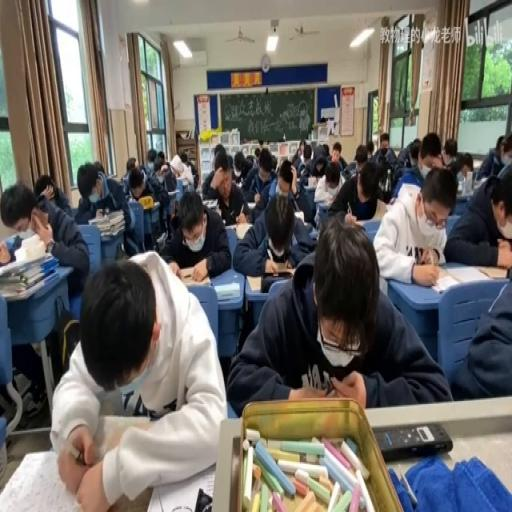calculator: (0, 449, 90, 512), (148, 463, 215, 512), (444, 263, 508, 286), (178, 263, 211, 286), (314, 200, 332, 228), (214, 282, 240, 300), (454, 173, 474, 195), (234, 222, 252, 240), (244, 274, 262, 292), (472, 176, 486, 190), (352, 218, 370, 228), (179, 175, 192, 188), (154, 232, 166, 246), (202, 196, 218, 206), (294, 208, 305, 222), (305, 176, 317, 188), (245, 199, 255, 209), (149, 199, 159, 209), (166, 189, 178, 196)
paper: (52, 250, 227, 509), (230, 216, 447, 415), (4, 178, 90, 300), (442, 162, 512, 268), (158, 186, 227, 279), (76, 158, 137, 257), (327, 155, 388, 220), (276, 155, 318, 225), (387, 141, 424, 199), (202, 148, 234, 199), (151, 151, 176, 193), (476, 148, 502, 179), (326, 141, 347, 175), (233, 148, 253, 183), (34, 173, 56, 202), (0, 234, 18, 266), (373, 145, 395, 168), (122, 155, 140, 183), (440, 138, 457, 166), (298, 142, 311, 174), (258, 148, 272, 176), (354, 150, 368, 174), (170, 198, 180, 229), (145, 148, 157, 173), (461, 151, 473, 176), (342, 159, 356, 178), (288, 139, 300, 161), (378, 168, 388, 189), (496, 135, 506, 152), (500, 148, 510, 165), (366, 140, 374, 160), (213, 142, 223, 156), (379, 136, 389, 150), (226, 154, 234, 170), (314, 163, 324, 175), (94, 158, 103, 171), (270, 155, 277, 171), (322, 144, 330, 156), (180, 149, 186, 162), (253, 145, 259, 157), (298, 142, 304, 151)
person: (374, 422, 451, 462), (261, 274, 295, 293), (270, 267, 292, 276)
